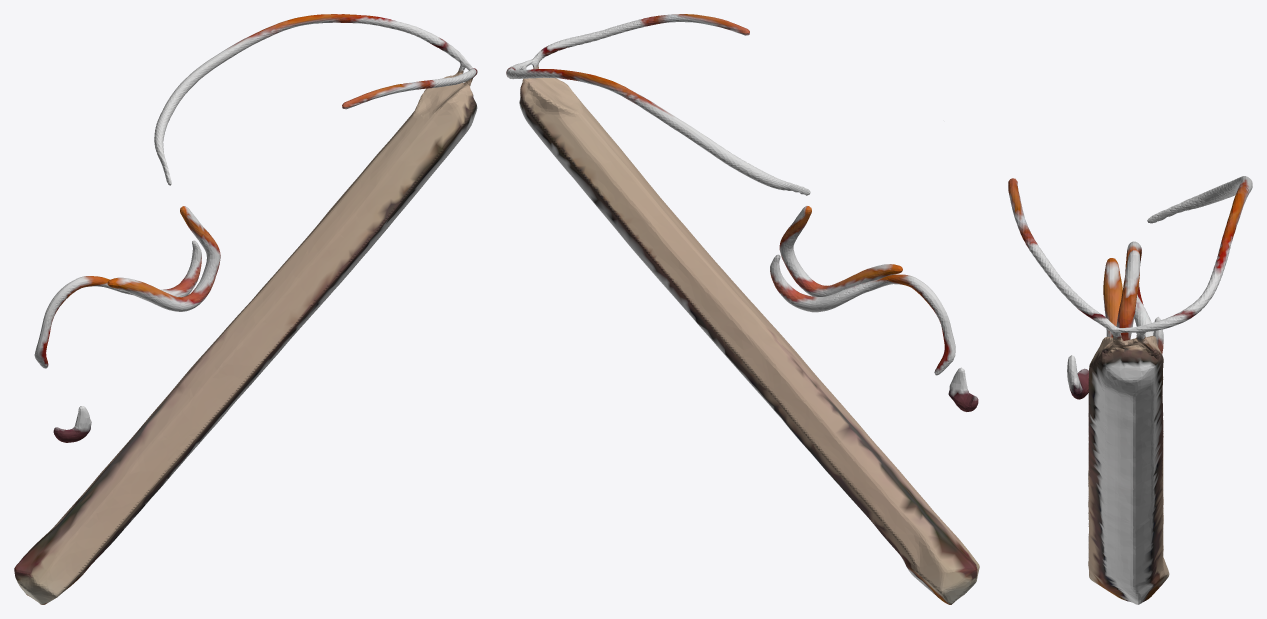
File: fishing_pole.glb
3 views of the same model, side by side, from view 1: azimuth 30°, elevation 25°; view 2: azimuth 150°, elevation 25°; view 3: azimuth 270°, elevation 25° (orthographic). The views are drawn at different scales.
Visible parts, largest first — view 1: geometry_0; view 2: geometry_0; view 3: geometry_0.
Part boxes in pixels (<box>): geometry_0: <box>14,14,477,604</box>; geometry_0: <box>506,14,979,604</box>; geometry_0: <box>1008,176,1252,604</box>.
Bounding box in the file's own units: 0.875 × 0.8807 × 0.3353.
